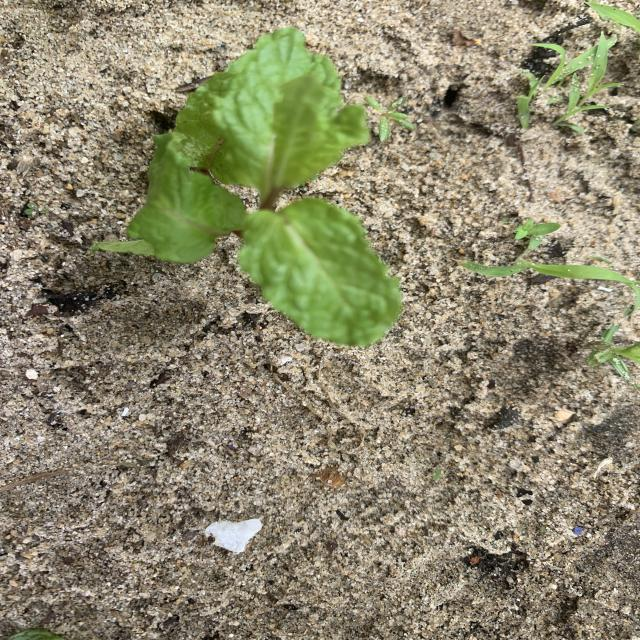crop: (90, 28, 401, 346)
weed: (517, 33, 620, 134), (460, 257, 640, 309), (586, 325, 640, 389), (364, 96, 415, 142), (515, 219, 561, 240), (24, 203, 49, 219)
